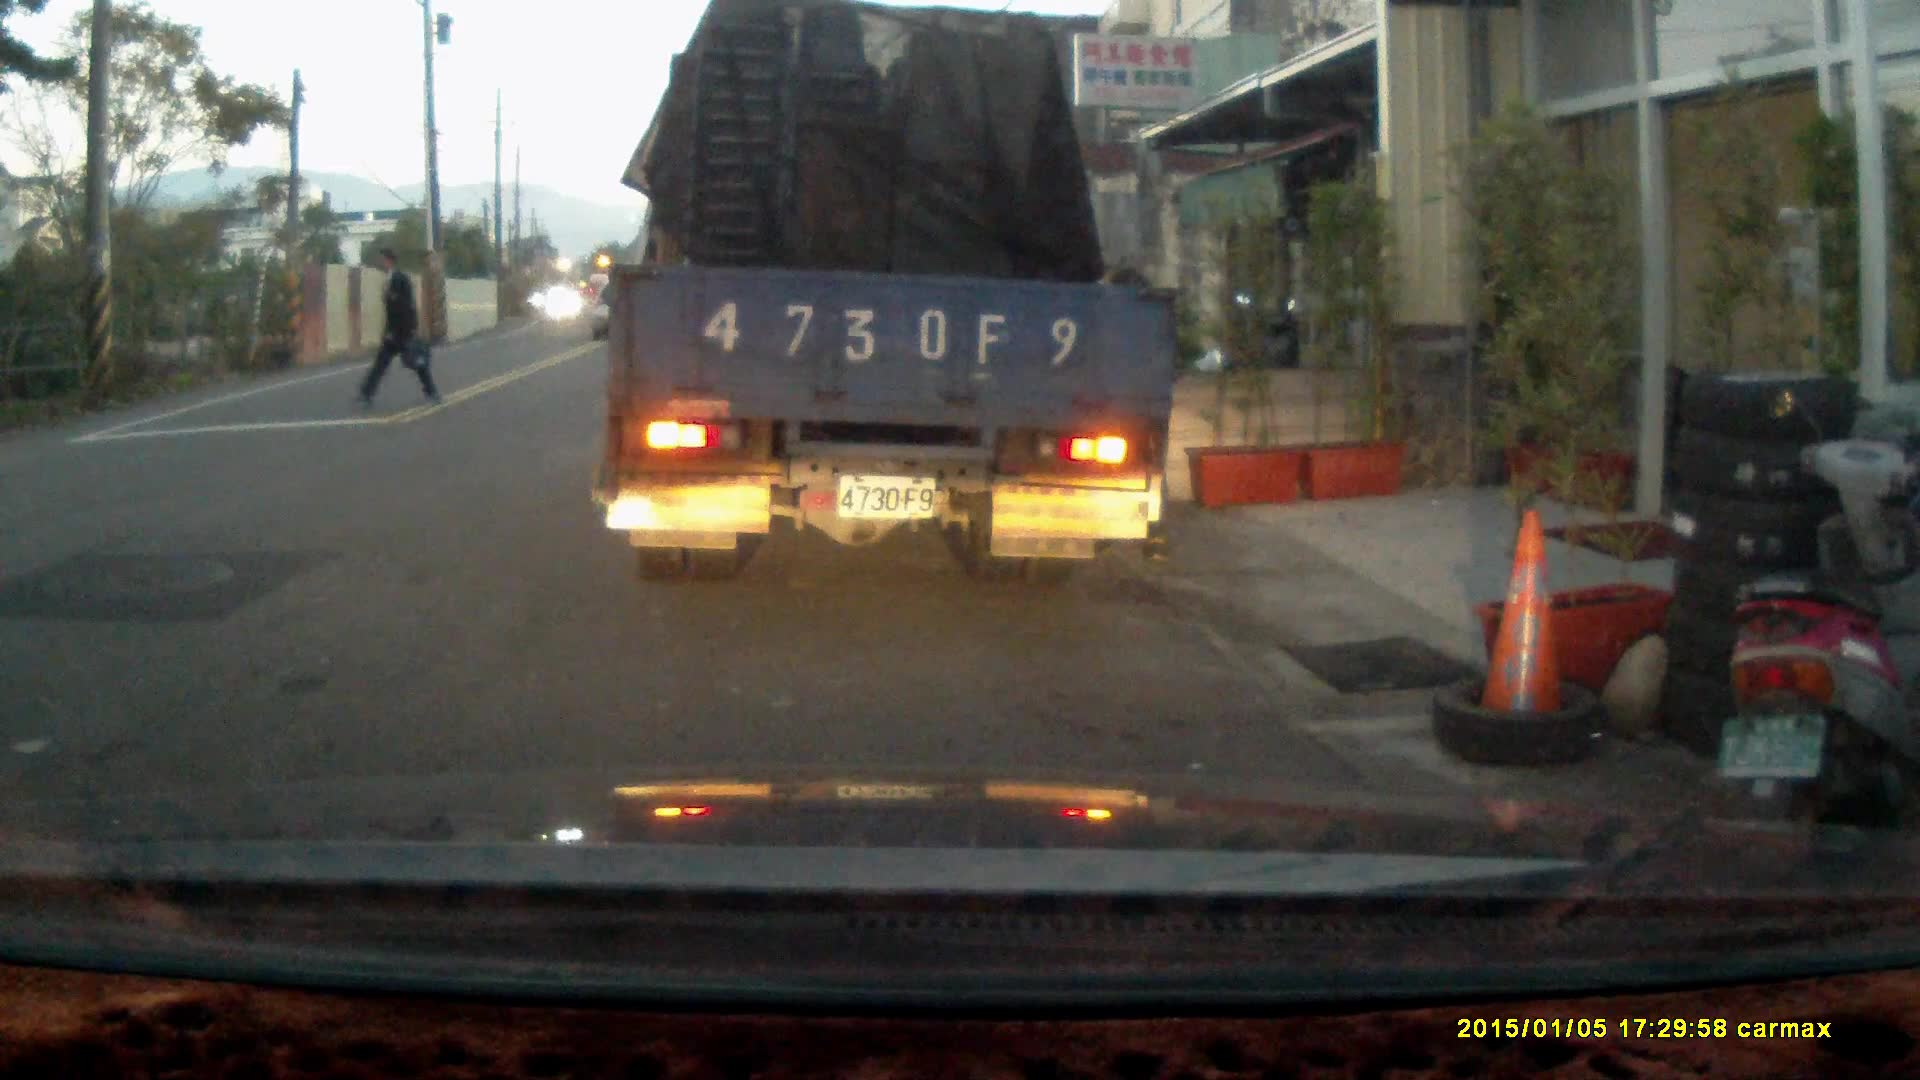pedestrian: (352, 244, 441, 413)
vehicle: (604, 23, 1188, 572)
